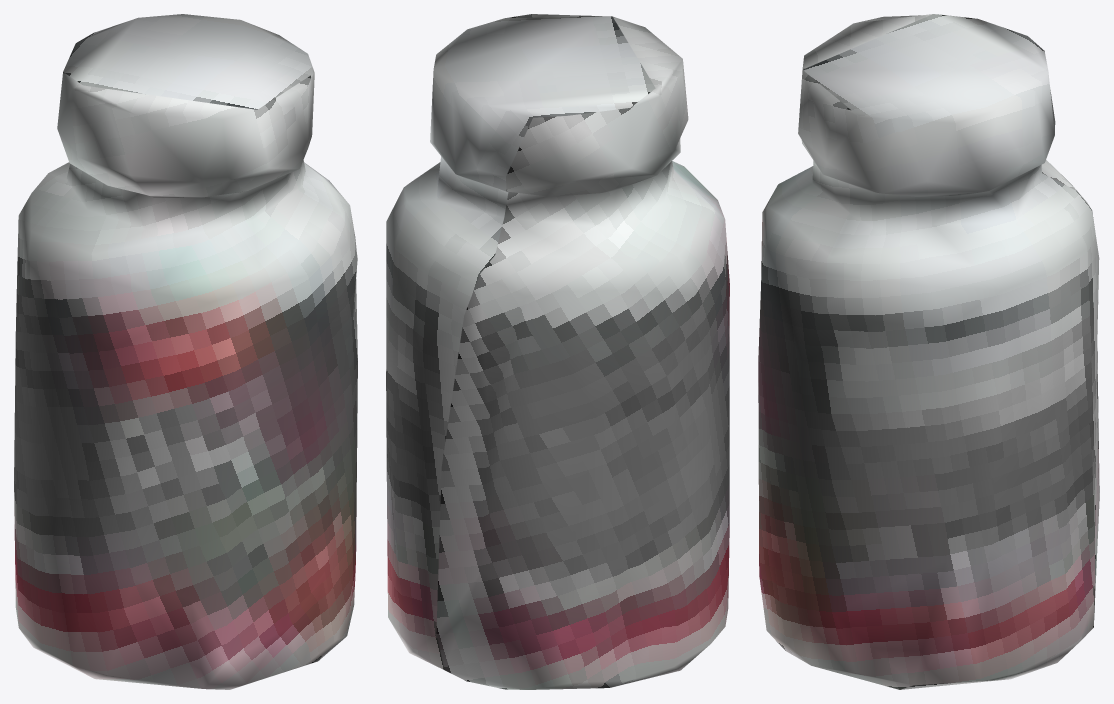
File: QHPomegranate-low.glb
3 renders of one model, left to right at view 1: azimuth 30°, elevation 25°; view 2: azimuth 150°, elevation 25°; view 3: azimuth 270°, elevation 25°, orthographic.
Parts seen in each view (by area): view 1: QHPomegranate; view 2: QHPomegranate; view 3: QHPomegranate.
Boxes of the visible parts, x1,y1,x2,y2 form: QHPomegranate: (14, 14, 357, 689); QHPomegranate: (386, 14, 729, 689); QHPomegranate: (758, 14, 1099, 689).
Size of the model in its own units: 0.054 by 0.0977 by 0.0534.
1 material, 1 textured.
